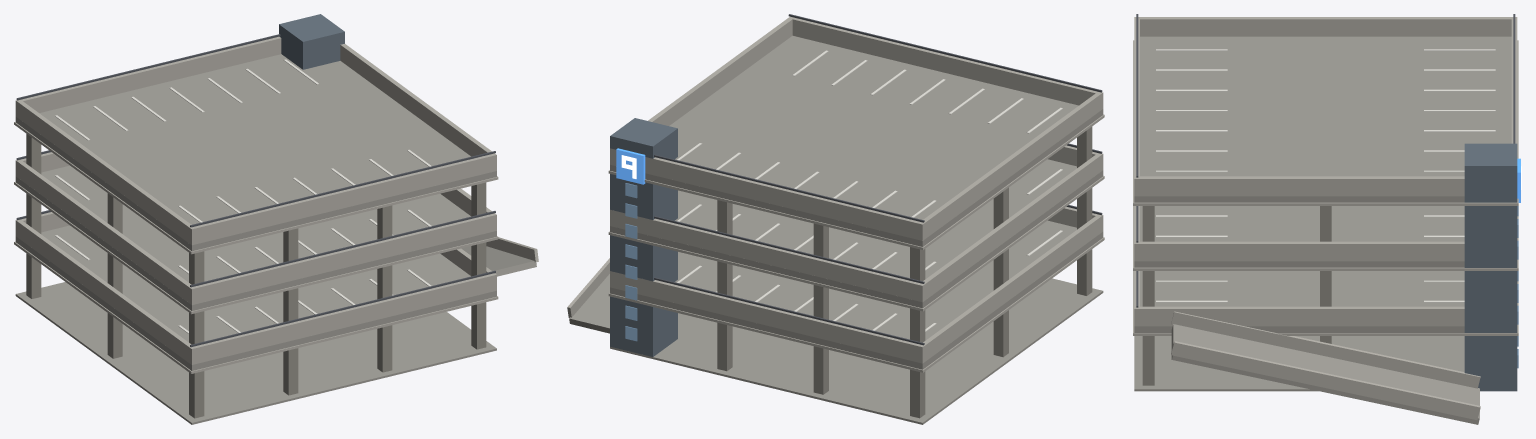
File: mall-garage.glb
3 views of the same model, side by side, from view 1: azimuth 30°, elevation 25°; view 2: azimuth 150°, elevation 25°; view 3: azimuth 270°, elevation 25° (orthographic). The views are drawn at different scales.
Visible parts, largest first — view 1: part-deck, part-parapet, part-column, part-rail, part-stair, part-line; view 2: part-deck, part-parapet, part-stair, part-column, part-rail, part-line, part-glass, part-sign-blue; view 3: part-deck, part-parapet, part-stair, part-line, part-column, part-rail.
Boxes of the visible parts, left/top/right/bottom form: part-deck: left=15, top=54, right=536, bottom=424; part-parapet: left=14, top=36, right=538, bottom=373; part-column: left=26, top=134, right=486, bottom=418; part-rail: left=16, top=34, right=495, bottom=347; part-stair: left=279, top=14, right=344, bottom=69; part-line: left=55, top=59, right=431, bottom=333; part-deck: left=569, top=35, right=1103, bottom=424; part-parapet: left=567, top=16, right=1104, bottom=372; part-stair: left=610, top=118, right=677, bottom=356; part-column: left=717, top=126, right=1092, bottom=418; part-rail: left=654, top=14, right=1102, bottom=345; part-line: left=677, top=50, right=1062, bottom=331; part-glass: left=625, top=183, right=637, bottom=341; part-sign-blue: left=616, top=148, right=645, bottom=184; part-deck: left=1134, top=36, right=1511, bottom=424; part-parapet: left=1133, top=17, right=1518, bottom=419; part-stair: left=1464, top=143, right=1517, bottom=391; part-line: left=1156, top=49, right=1495, bottom=302; part-column: left=1142, top=206, right=1331, bottom=385; part-rail: left=1136, top=14, right=1515, bottom=307.
Size of the model in its own units: 191 by 105 by 162.
